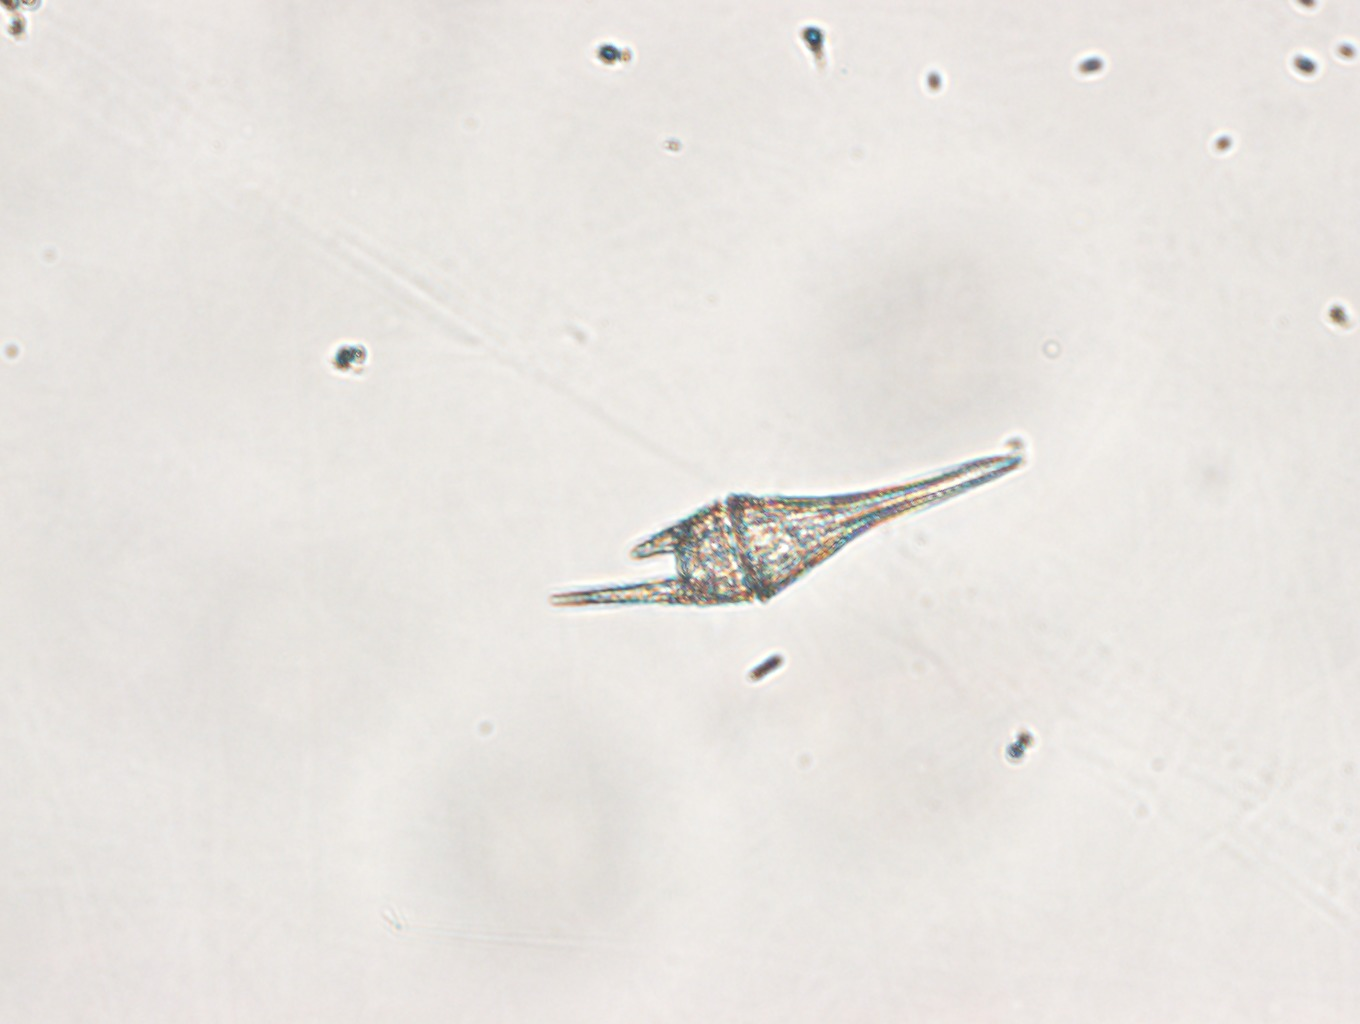ceratium furca: (549, 451, 1019, 606)
